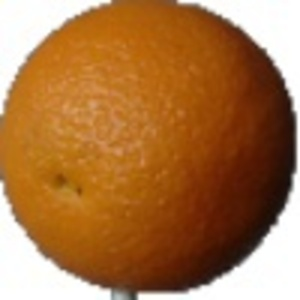laranja: (4, 1, 299, 295)
